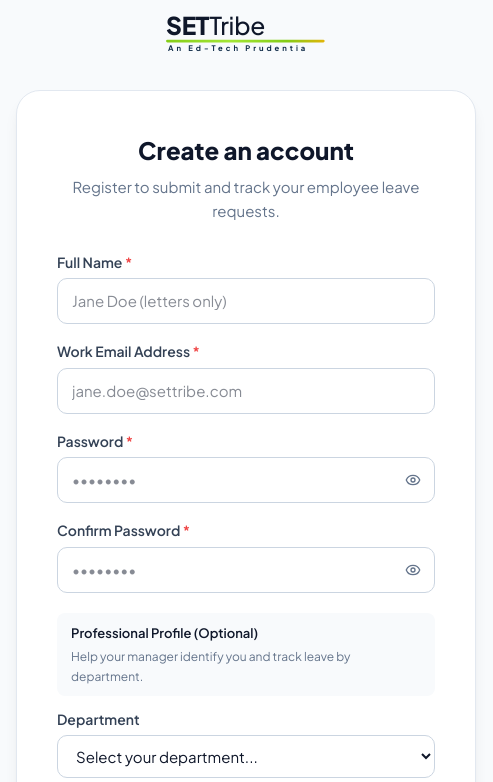
it: AuthPage › strips digits from the full name and explains why
The image size is (493, 782).
Type "Jane2" into the field labelled "Full Name *" at (246, 301), box left=57, top=278, right=435, bottom=324
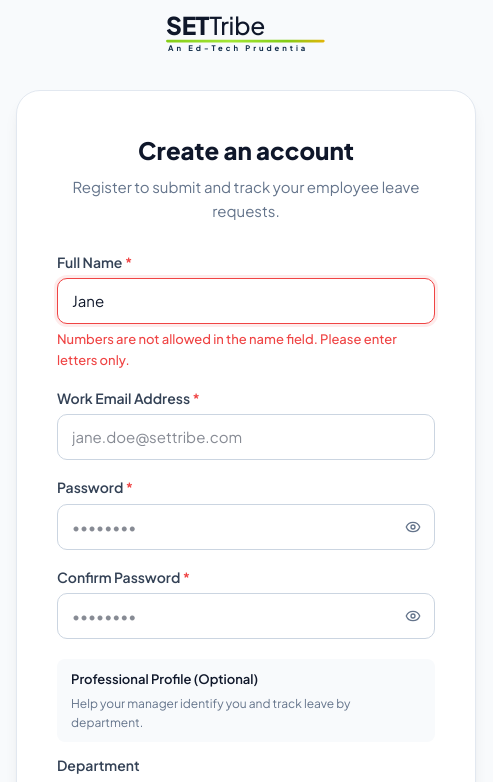
Expected: the field labelled "Full Name *" holds "Jane", left=57, top=278, right=435, bottom=324
Expected: the text "Numbers are not allowed in the name field. Please enter letters only." is shown, left=57, top=329, right=435, bottom=371
